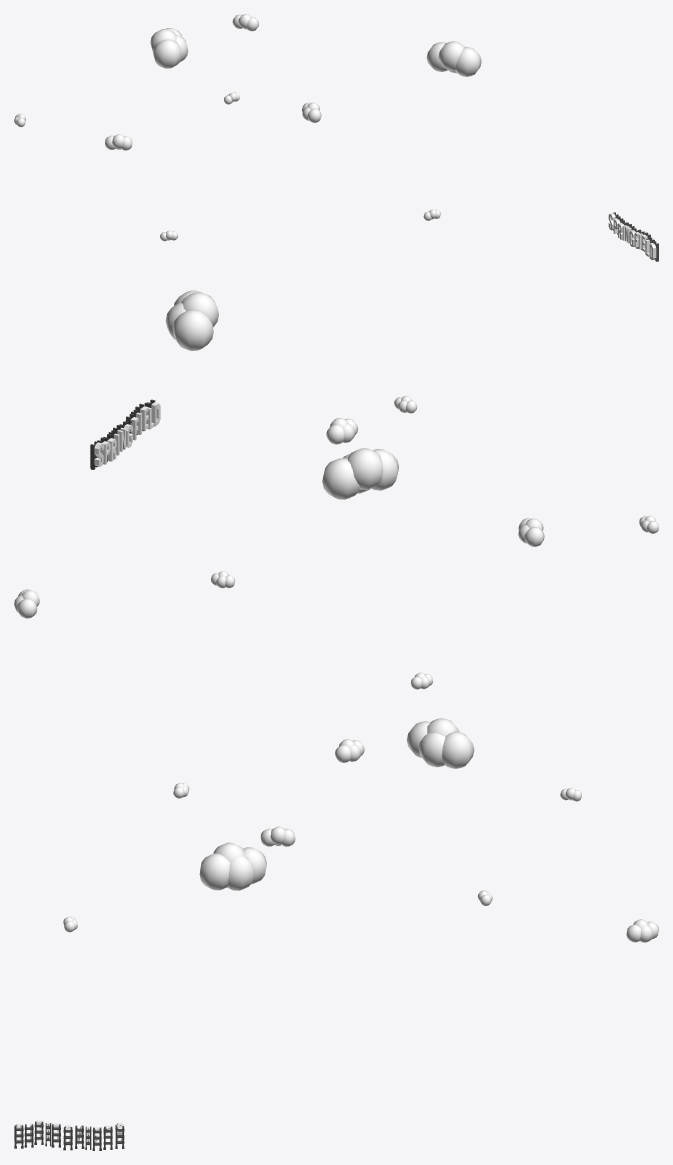
The model's file is object_10_lev1.glb.
3 renders of one model, top to bottom at view 1: azimuth 30°, elevation 25°; view 2: azimuth 150°, elevation 25°; view 3: azimuth 270°, elevation 25°, orthographic. The views are drawn at different scales.
Visible parts, largest first — view 1: object_10_lev1; view 2: object_10_lev1; view 3: object_10_lev1.
Part boxes in pixels (left/top/right/bottom): object_10_lev1: left=14, top=14, right=658, bottom=261; object_10_lev1: left=14, top=290, right=658, bottom=689; object_10_lev1: left=14, top=718, right=658, bottom=1150.
Bounding box in the file's own units: 54.67 × 22.66 × 56.64.
Materials: 1 (1 with a texture image).
